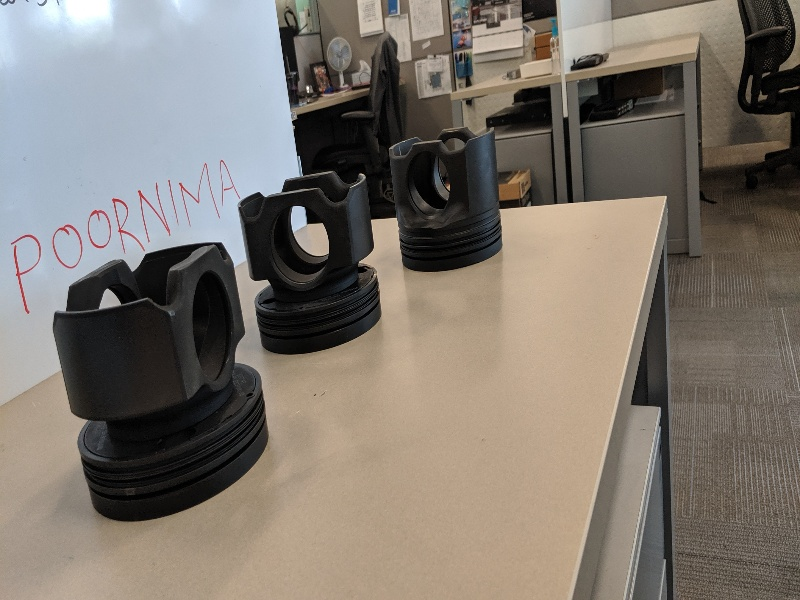piston: (47, 235, 274, 529), (228, 165, 389, 357), (381, 130, 522, 274)
